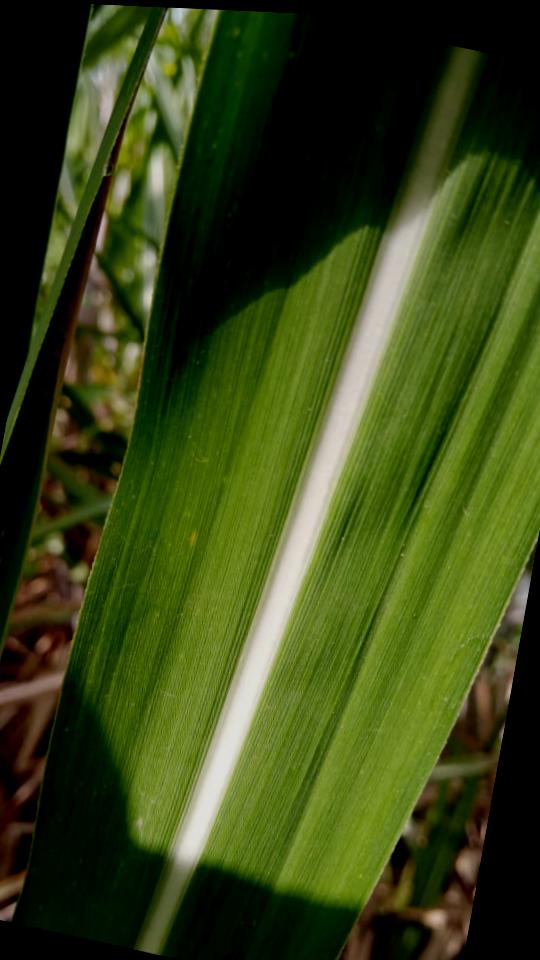Healthy: (8, 10, 540, 960)
